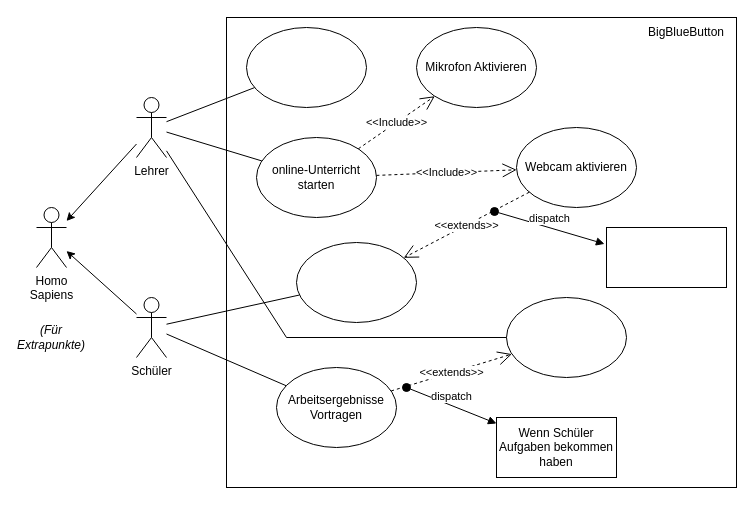
Image size: 754x505. Some labels were removed from this diagram. Here are the shapes that lost their labels. From the top down, the box of each, then its label:
(246, 26, 366, 108): link auf Moodle stellen
(606, 226, 726, 288): wenn webcam vorhanden
(296, 242, 416, 322): In Online Unterricht einloggen
(506, 296, 626, 378): unterricht durchführen
